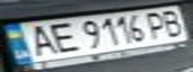1: (97, 15, 118, 47), (115, 12, 133, 44)
6: (127, 11, 148, 43)
9: (75, 17, 103, 50)
A: (21, 23, 60, 57)
B: (157, 7, 190, 38)
E: (42, 19, 81, 54)
P: (142, 9, 172, 39)
